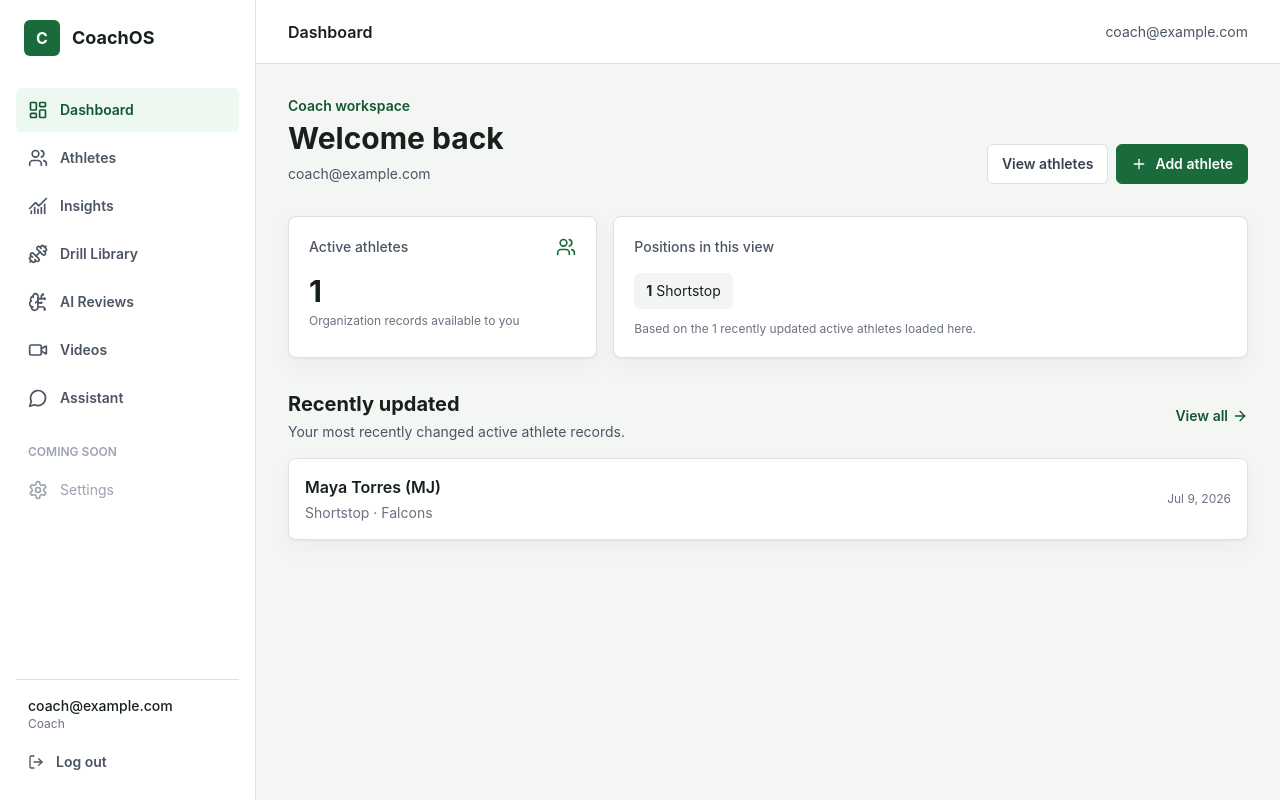
authentication › restores a session, redirects public-only routes, and logs out
Expected: the heading "Welcome back" is shown, [288,120,504,156]
Click the button titled "Log out" at point(1177, 32), box [1105,22,1248,42]
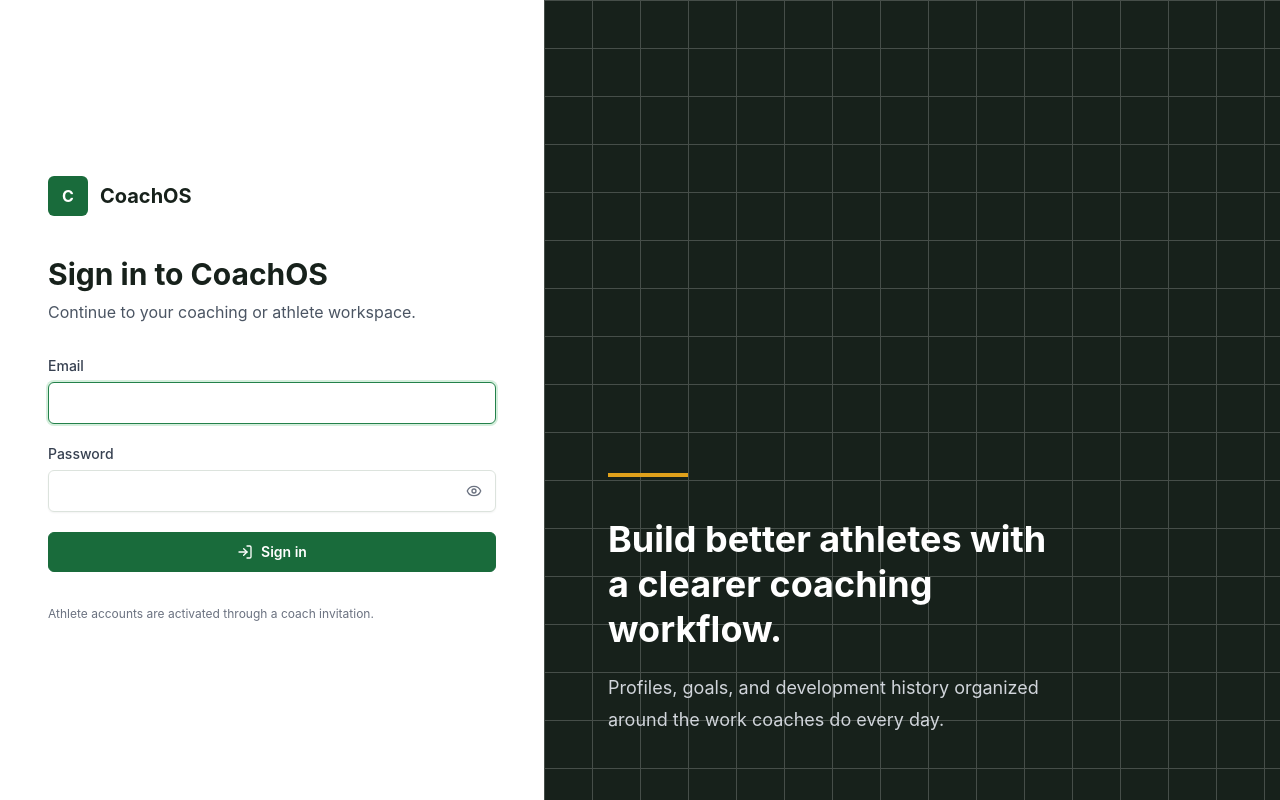
Now the heading "Sign in to CoachOS" is shown, box [48,256,328,292]
